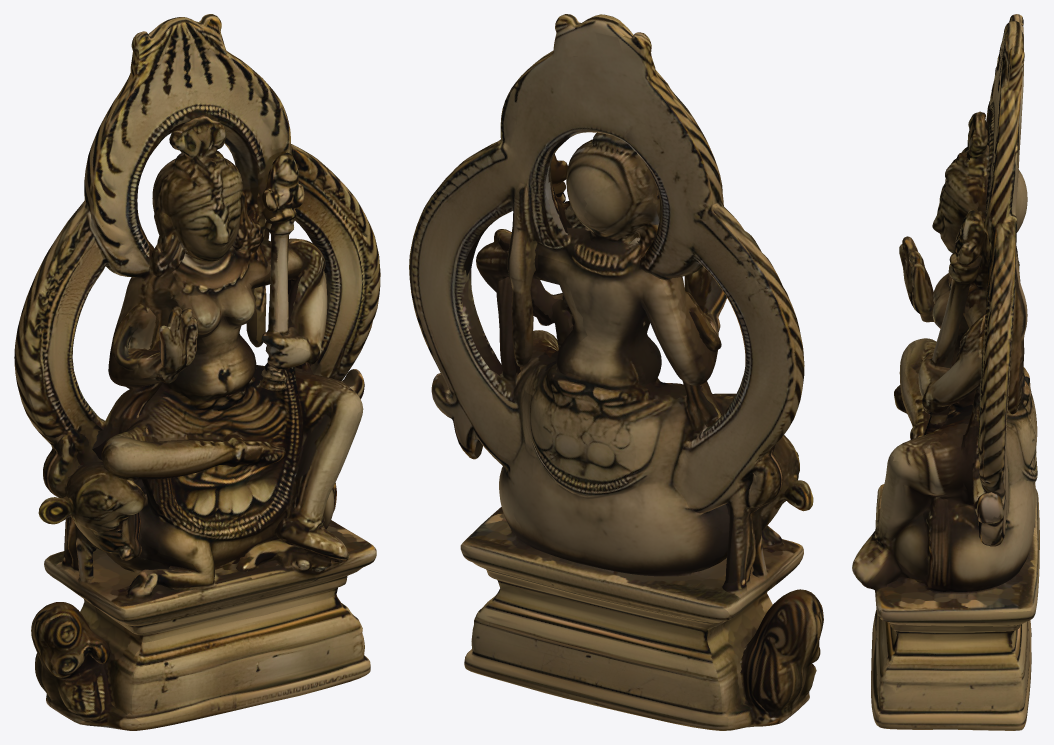
3 renders of one model, left to right at view 1: azimuth 30°, elevation 25°; view 2: azimuth 150°, elevation 25°; view 3: azimuth 270°, elevation 25°, orthographic. The views are drawn at different scales.
Visible parts, largest first — view 1: textured_mesh; view 2: textured_mesh; view 3: textured_mesh.
Boxes of the visible parts, bbox=[...] form: textured_mesh: bbox=[14, 14, 380, 730]; textured_mesh: bbox=[409, 14, 823, 730]; textured_mesh: bbox=[852, 14, 1039, 730].
Size of the model in its own units: 1.18 by 1.99 by 0.5246.
1 material, 1 textured.
